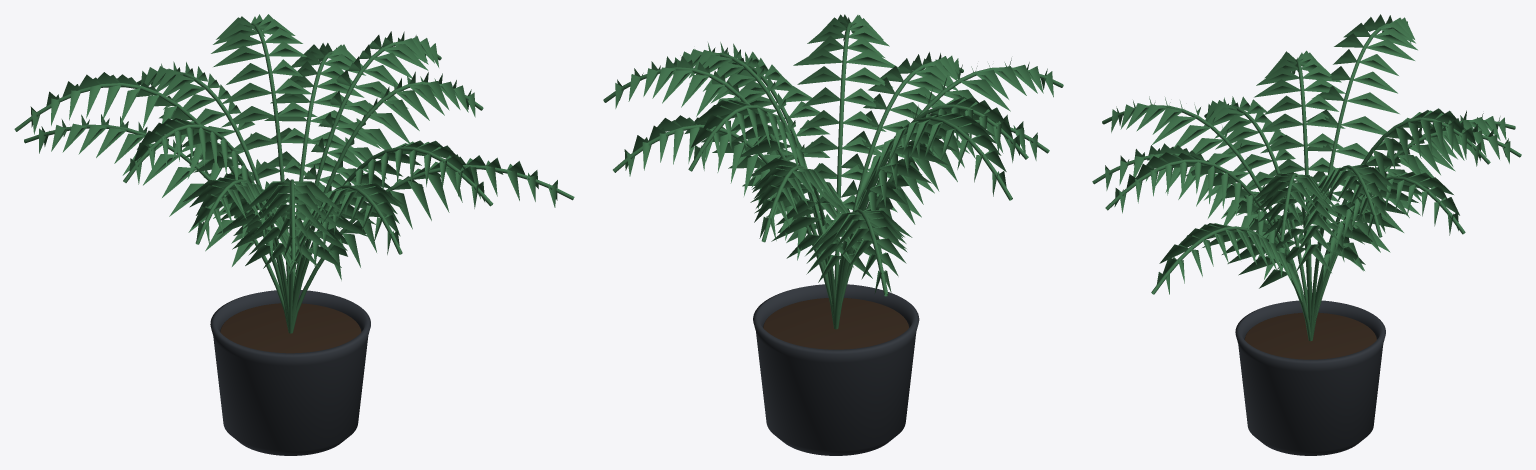
The model's file is potted-palm.glb.
3 renders of one model, left to right at view 1: azimuth 30°, elevation 25°; view 2: azimuth 150°, elevation 25°; view 3: azimuth 270°, elevation 25°, orthographic. The views are drawn at different scales.
Parts seen in each view (by area): view 1: Ceramic palm planter, Soil, Arched palm frond rachis.007, Arched palm frond rachis.001, Arched palm frond rachis.002, Arched palm frond rachis.012, Arched palm frond rachis.008, Arched palm frond rachis.010, Arched palm frond rachis.006, Arched palm frond rachis, Arched palm frond rachis.003, Arched palm frond rachis.005 (+3 smaller); view 2: Ceramic palm planter, Soil, Arched palm frond rachis.007, Arched palm frond rachis.002, Arched palm frond rachis.011, Arched palm frond rachis.006, Arched palm frond rachis.008, Arched palm frond rachis.009, Arched palm frond rachis.010, Arched palm frond rachis.012, Arched palm frond rachis.003, Arched palm frond rachis (+4 smaller); view 3: Ceramic palm planter, Soil, Arched palm frond rachis.002, Arched palm frond rachis.004, Arched palm frond rachis.010, Arched palm frond rachis.001, Arched palm frond rachis.012, Arched palm frond rachis, Arched palm frond rachis.007, Arched palm frond rachis.011, Arched palm frond rachis.006, Arched palm frond rachis.005 (+2 smaller).
Part boxes in pixels (x1=…): Ceramic palm planter: x1=210, y1=290, x2=370, y2=455; Soil: x1=220, y1=303, x2=361, y2=353; Arched palm frond rachis.007: x1=14, y1=83, x2=289, y2=332; Arched palm frond rachis.001: x1=292, y1=164, x2=574, y2=332; Arched palm frond rachis.002: x1=291, y1=146, x2=493, y2=332; Arched palm frond rachis.012: x1=293, y1=41, x2=441, y2=294; Arched palm frond rachis.008: x1=24, y1=124, x2=288, y2=332; Arched palm frond rachis.010: x1=251, y1=23, x2=288, y2=291; Arched palm frond rachis.006: x1=123, y1=124, x2=288, y2=331; Arched palm frond rachis: x1=302, y1=82, x2=483, y2=269; Arched palm frond rachis.003: x1=291, y1=185, x2=402, y2=333; Arched palm frond rachis.005: x1=195, y1=179, x2=289, y2=332; Ceramic palm planter: x1=753, y1=284, x2=919, y2=455; Soil: x1=763, y1=298, x2=908, y2=349; Arched palm frond rachis.007: x1=837, y1=116, x2=1012, y2=328; Arched palm frond rachis.002: x1=834, y1=22, x2=854, y2=293; Arched palm frond rachis.011: x1=613, y1=124, x2=834, y2=328; Arched palm frond rachis.006: x1=838, y1=104, x2=1028, y2=328; Arched palm frond rachis.008: x1=834, y1=209, x2=888, y2=329; Arched palm frond rachis.009: x1=761, y1=165, x2=835, y2=328; Arched palm frond rachis.010: x1=688, y1=105, x2=834, y2=328; Arched palm frond rachis.012: x1=603, y1=67, x2=828, y2=279; Arched palm frond rachis.003: x1=844, y1=61, x2=963, y2=259; Arched palm frond rachis: x1=715, y1=52, x2=825, y2=261; Ceramic palm planter: x1=1235, y1=300, x2=1385, y2=455; Soil: x1=1244, y1=312, x2=1376, y2=359; Arched palm frond rachis.002: x1=1105, y1=159, x2=1308, y2=315; Arched palm frond rachis.004: x1=1102, y1=105, x2=1307, y2=310; Arched palm frond rachis.010: x1=1312, y1=117, x2=1490, y2=339; Arched palm frond rachis.001: x1=1151, y1=226, x2=1310, y2=340; Arched palm frond rachis.012: x1=1310, y1=165, x2=1382, y2=340; Arched palm frond rachis: x1=1280, y1=173, x2=1311, y2=340; Arched palm frond rachis.007: x1=1313, y1=23, x2=1388, y2=292; Arched palm frond rachis.011: x1=1311, y1=176, x2=1465, y2=340; Arched palm frond rachis.006: x1=1291, y1=59, x2=1311, y2=298; Arched palm frond rachis.005: x1=1204, y1=105, x2=1308, y2=312.
Bounding box in the file's own units: 1.88 × 1.54 × 1.77.
